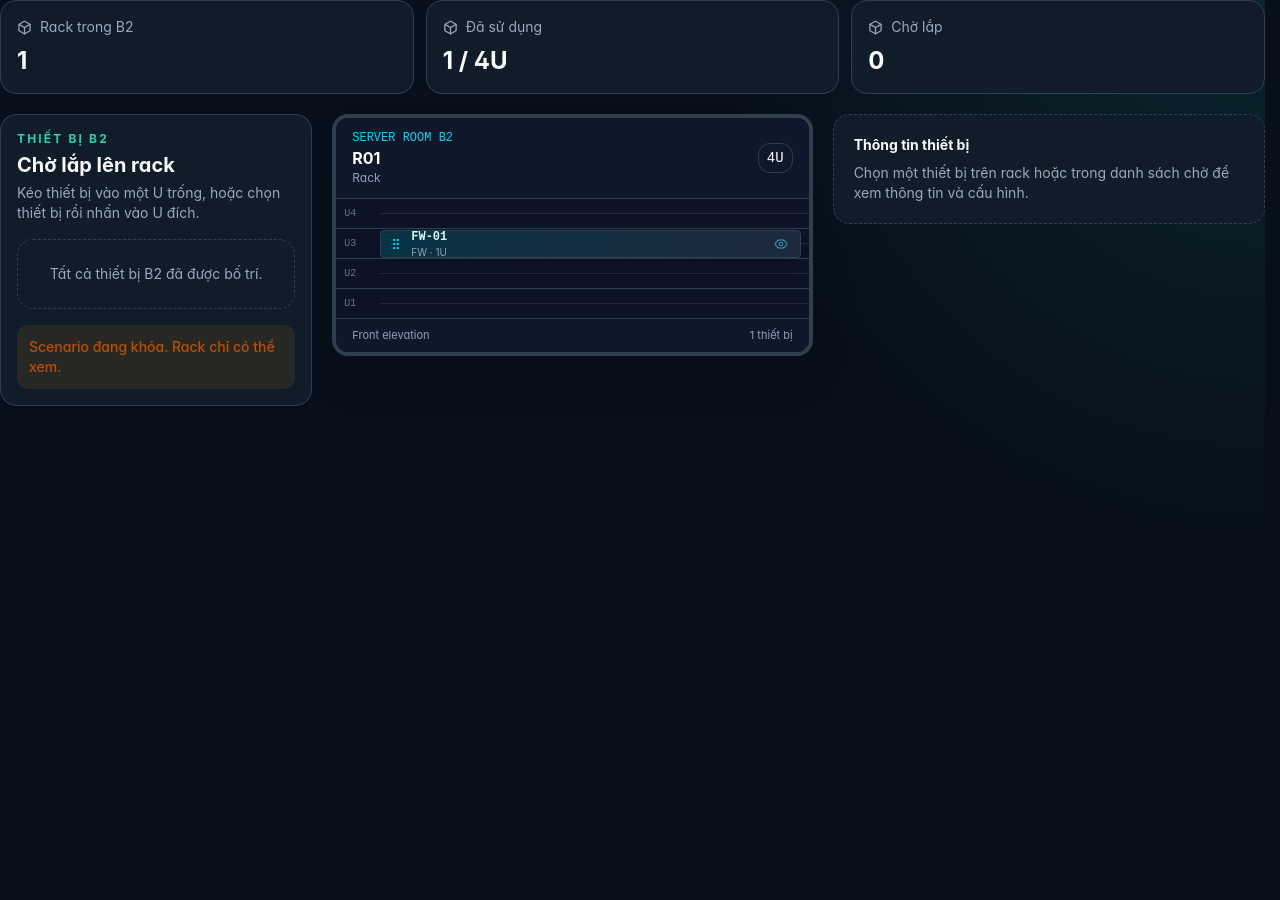
opens device configuration in locked racks without allowing placement
Click the button with aria-label "Xem thông tin FW-01" at point(429, 236), box [411,228,762,260]
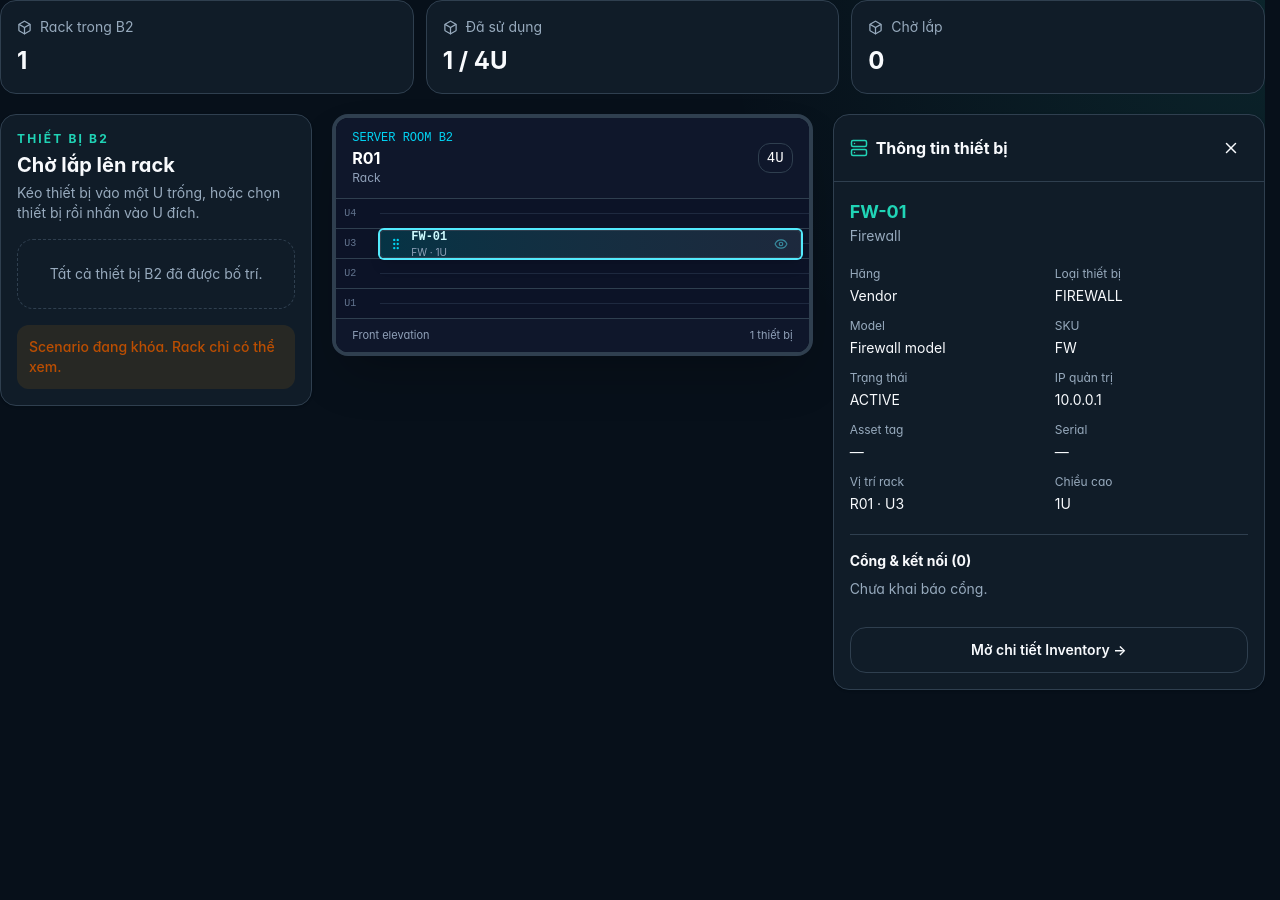
Expected: the button named "Đặt thiết bị tại U4" is disabled, [336,199,809,229]
Expected: the text "10.0.0.1" is shown, [1055,391,1102,408]
Click the button named "Đóng thông tin thiết bị" at point(1231, 148), box [1214,131,1248,165]
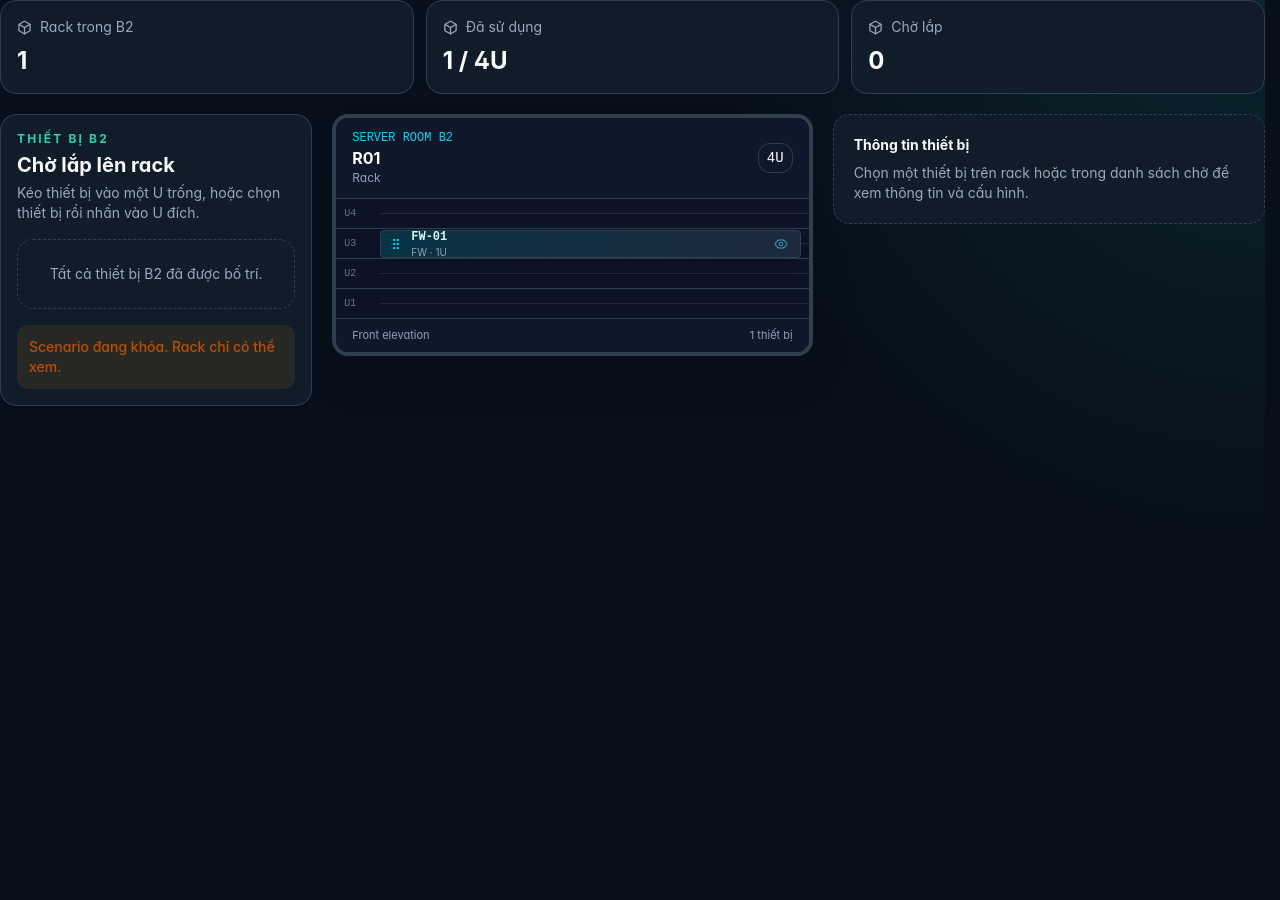
Expected: the text "10.0.0.1" is gone
